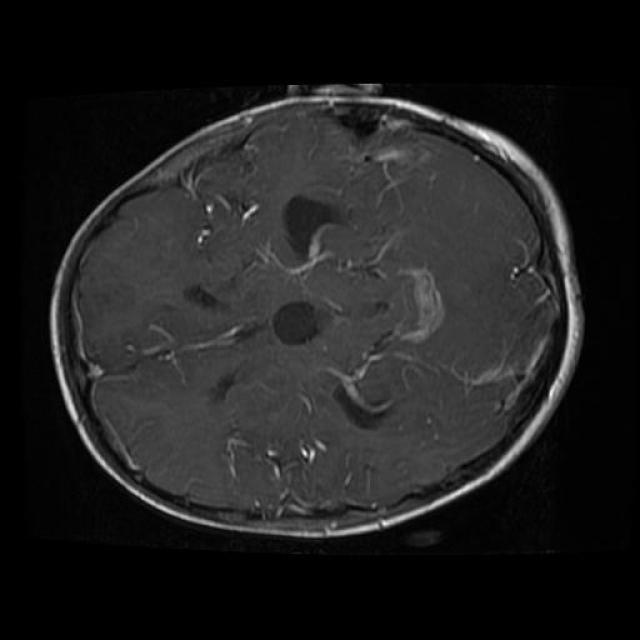Glioma: (314, 85, 435, 236)
